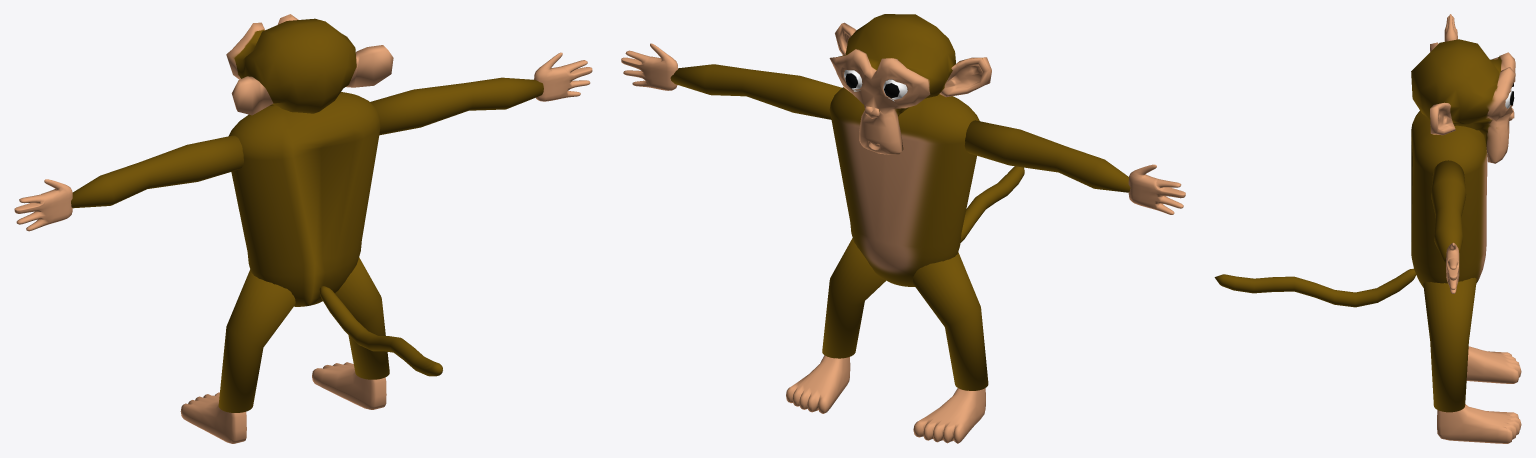
Rendered from MonkeyArmature.fbx.
The picture shows the model from 3 angles, left to right: view 1: azimuth 30°, elevation 25°; view 2: azimuth 150°, elevation 25°; view 3: azimuth 270°, elevation 25°; orthographic projection. The views are drawn at different scales.
Parts seen in each view (by area): view 1: Torso, Suzanne, LeftLeg, LeftArm, RightArm, RightLeg, Tail, RightFoot, LeftFoot, LeftHand, RightHand; view 2: Torso, Suzanne, LeftLeg, LeftArm, RightArm, RightLeg, LeftFoot, RightFoot, LeftHand, RightHand, Tail; view 3: Suzanne, Torso, RightLeg, Tail, RightArm, RightFoot, LeftFoot, RightHand.
Part boxes in pixels (<box>): Torso: <box>229,92,380,306</box>; Suzanne: <box>226,14,393,115</box>; LeftLeg: <box>218,269,295,412</box>; LeftArm: <box>71,135,243,208</box>; RightArm: <box>370,77,543,135</box>; RightLeg: <box>335,257,389,379</box>; Tail: <box>319,286,442,376</box>; RightFoot: <box>312,362,386,409</box>; LeftFoot: <box>180,392,246,443</box>; LeftHand: <box>14,179,72,231</box>; RightHand: <box>534,52,592,101</box>; Torso: <box>829,87,979,286</box>; Suzanne: <box>829,14,991,154</box>; LeftLeg: <box>912,252,988,390</box>; LeftArm: <box>964,120,1130,192</box>; RightArm: <box>670,64,841,119</box>; RightLeg: <box>822,238,886,358</box>; LeftFoot: <box>913,388,985,443</box>; RightFoot: <box>786,355,850,413</box>; LeftHand: <box>1128,164,1185,214</box>; RightHand: <box>621,43,677,90</box>; Tail: <box>960,166,1024,242</box>; Suzanne: <box>1411,39,1515,163</box>; Torso: <box>1411,111,1487,287</box>; RightLeg: <box>1423,277,1476,412</box>; Tail: <box>1214,268,1416,307</box>; RightArm: <box>1431,160,1466,263</box>; RightFoot: <box>1437,404,1521,443</box>; LeftFoot: <box>1466,346,1521,383</box>; RightHand: <box>1446,242,1459,293</box>.
Bounding box in the file's own units: 602 × 394 × 305.
